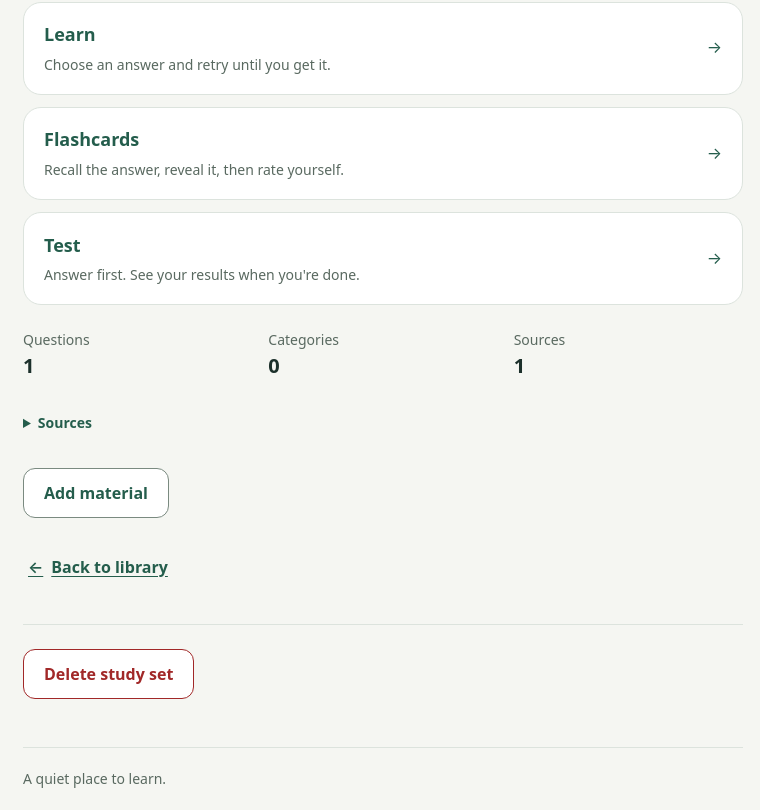
saved Library › allows cancel and then confirmed deletion
The image size is (760, 810).
(page scrolled)
Click the button "Delete study set".
click(109, 674)  # box [23,648,194,698]
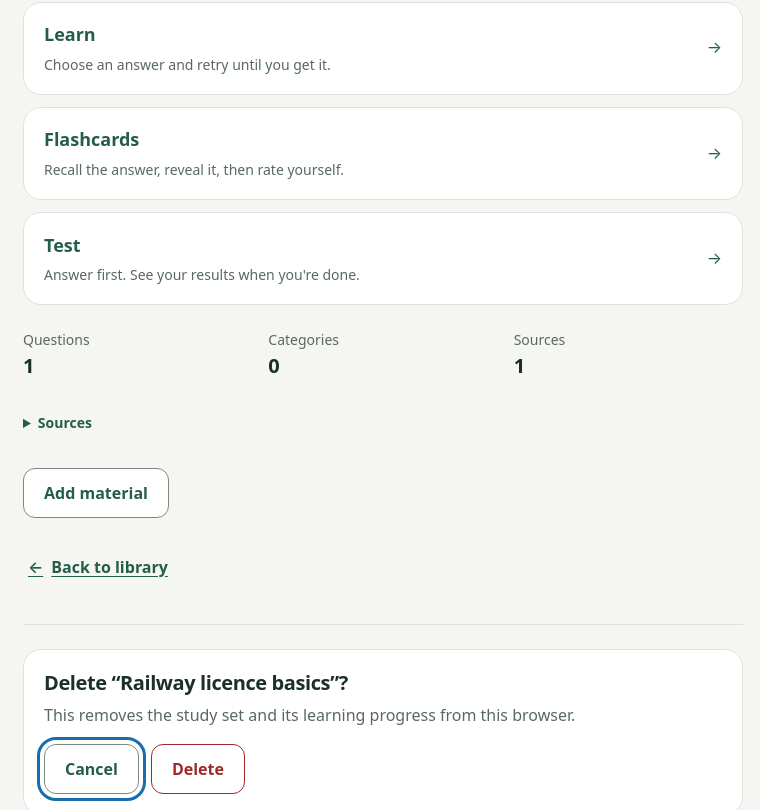
Click the button "Cancel".
click(91, 769)  # box [44,744,139,794]
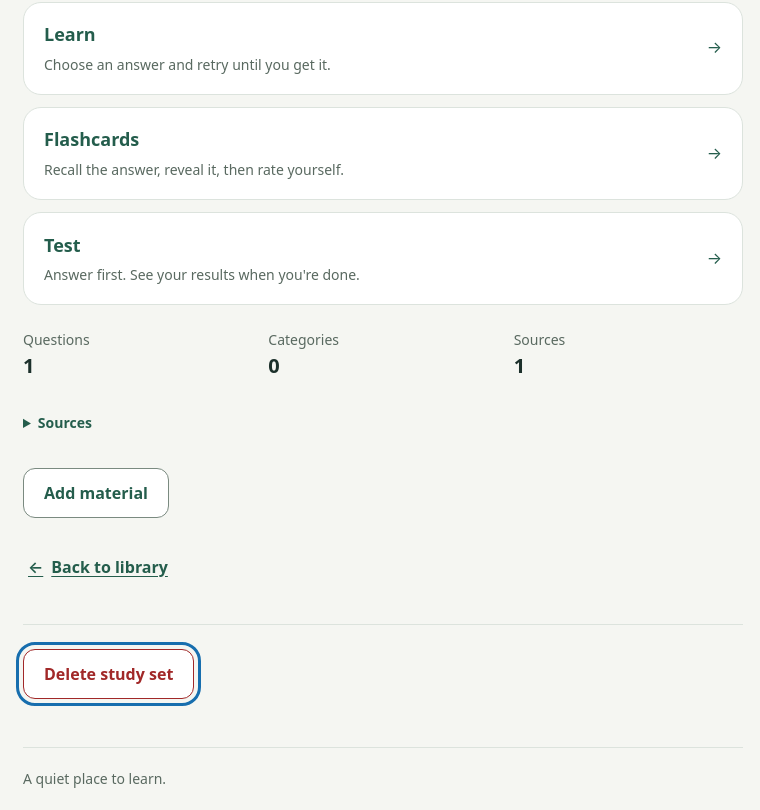
Click the button "Delete study set".
click(109, 674)  # box [23,648,194,698]
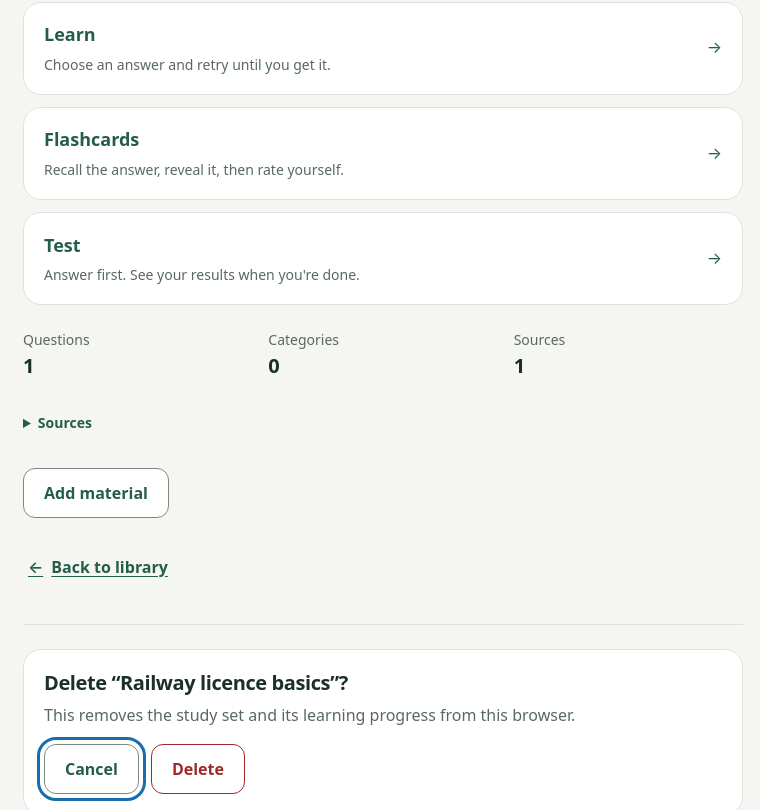
Click the button "Delete".
click(198, 769)  # box [151,744,245,794]
(page scrolled)
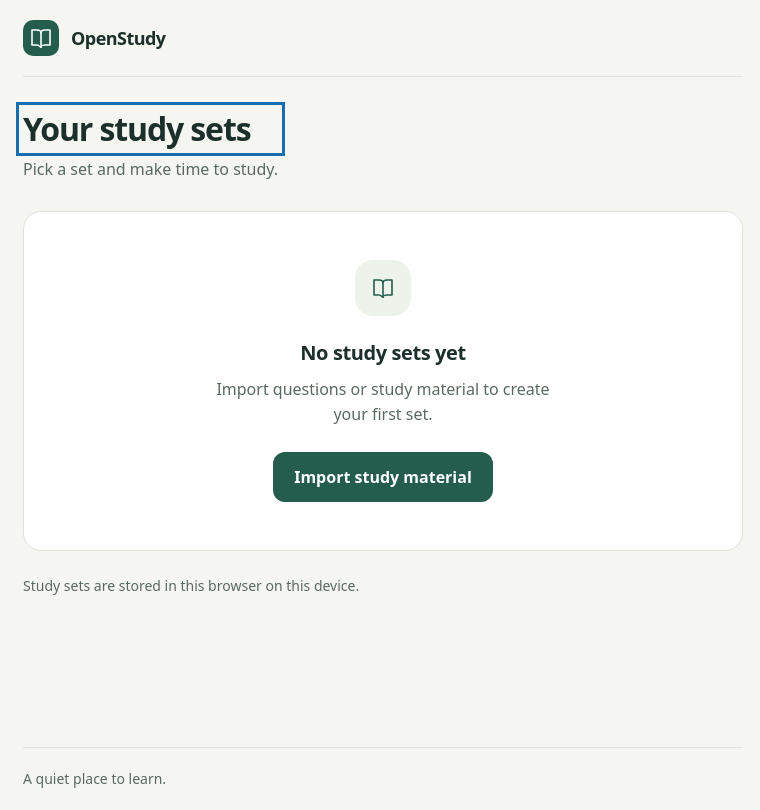
Expected: the element "No study sets yet" is shown, [23,211,743,551]
